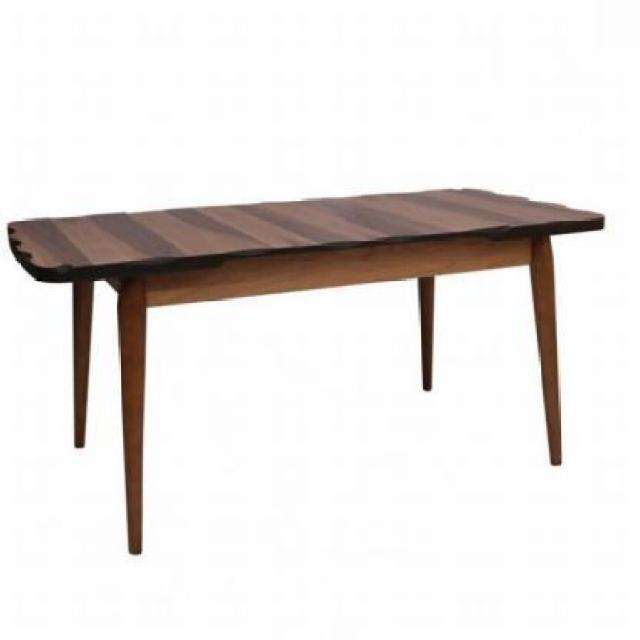tables: (6, 184, 605, 556)
